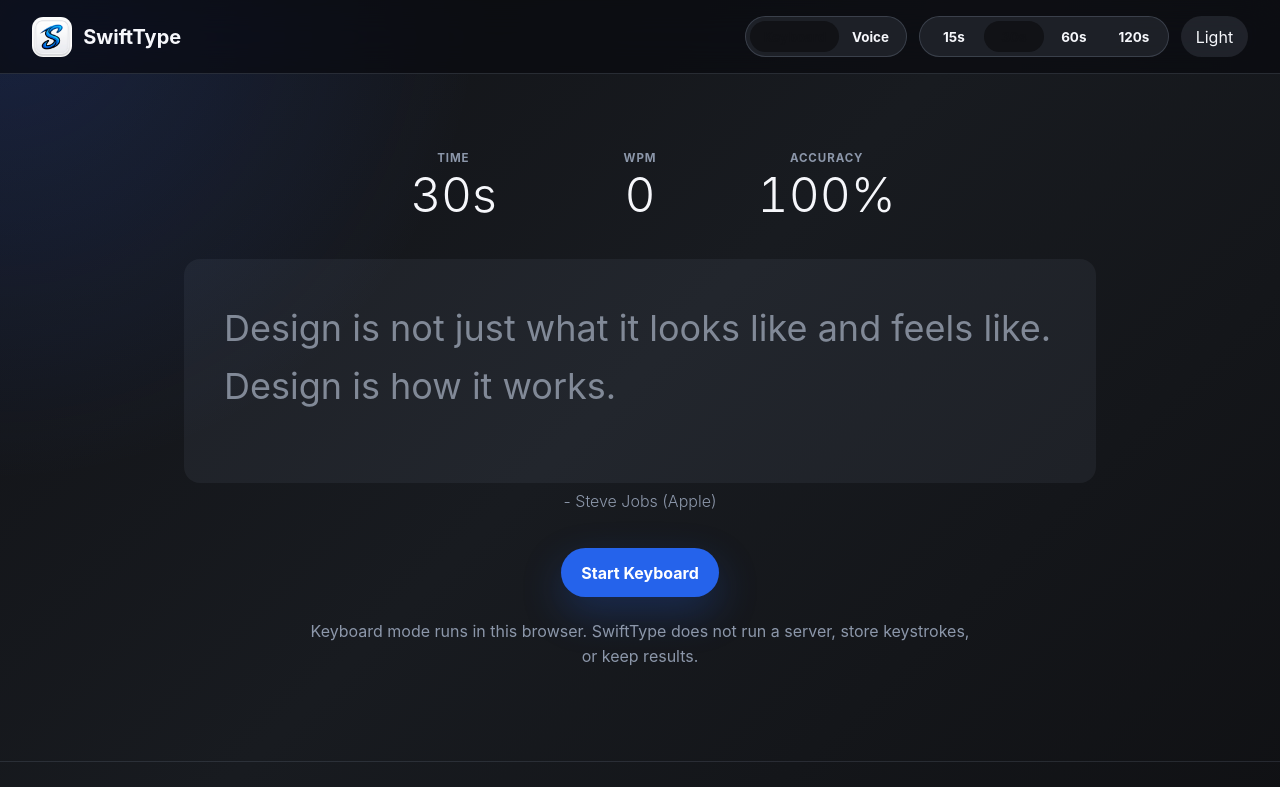
App › resets duration and formats long timers
Click the button "60s" at (1074, 37), box [1044,21,1104,52]
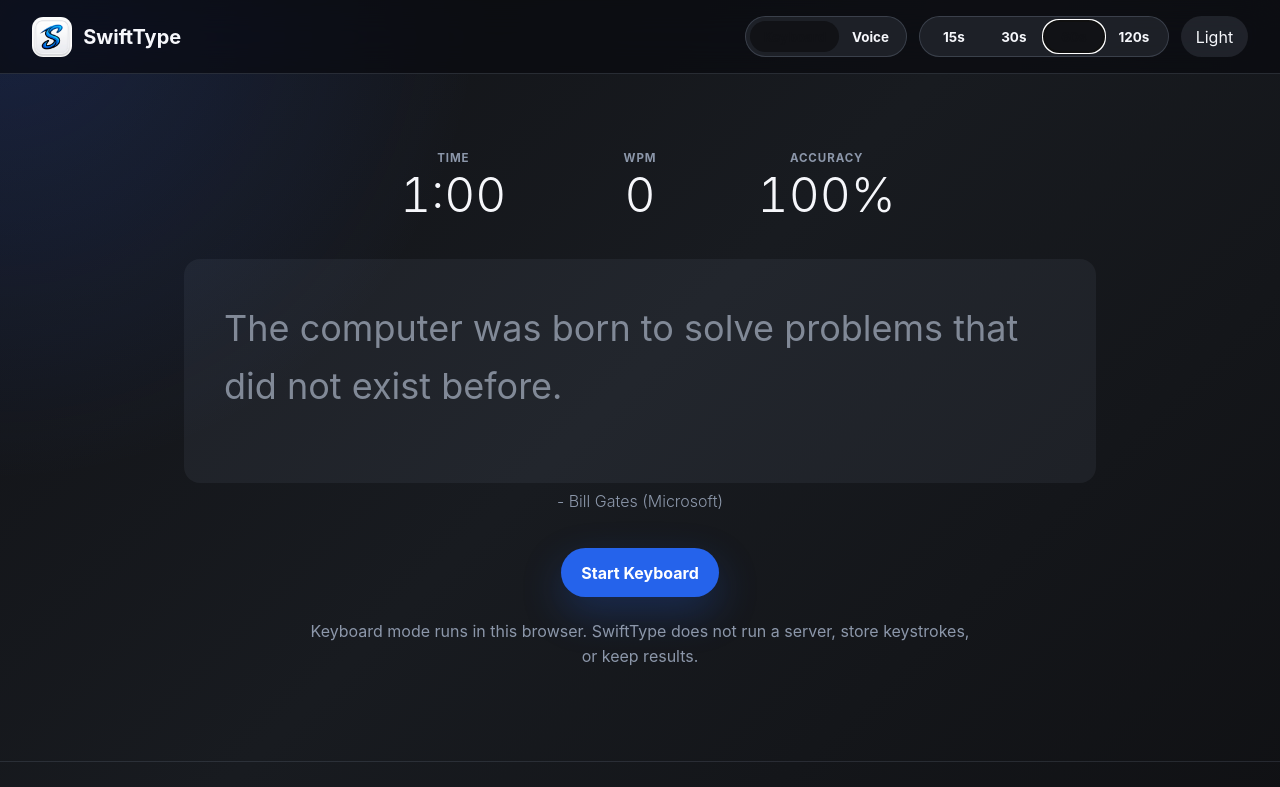
Now the text "1:00" is shown, box [400,165,506,224]
